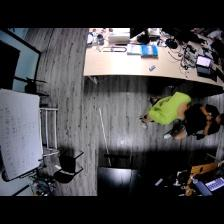normal: (141, 91, 200, 128), (173, 105, 224, 140)
